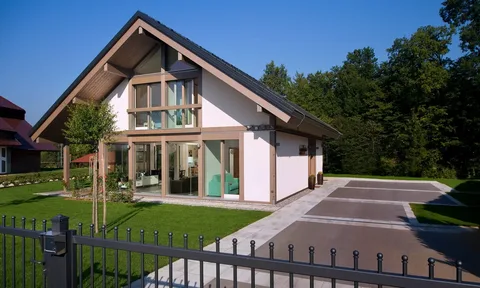private_hause: (72, 28, 329, 201)
